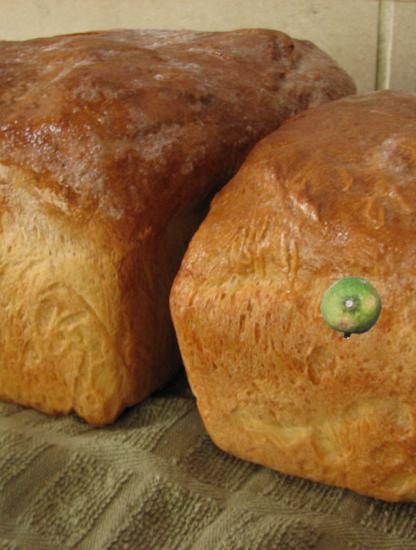Limes: (320, 276, 382, 338)
